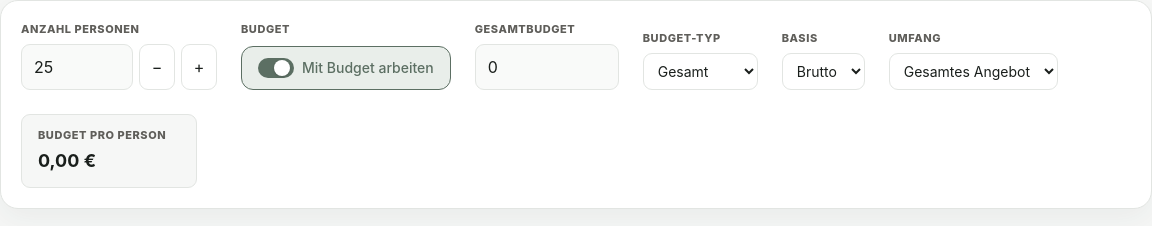
Test: TopControls budget input › normalizes a leading zero while typing 01000 to 1000
Replace the text in the field labelled "Gesamtbudget" with "01000" at x=547, y=66, box [475,44,619,90]
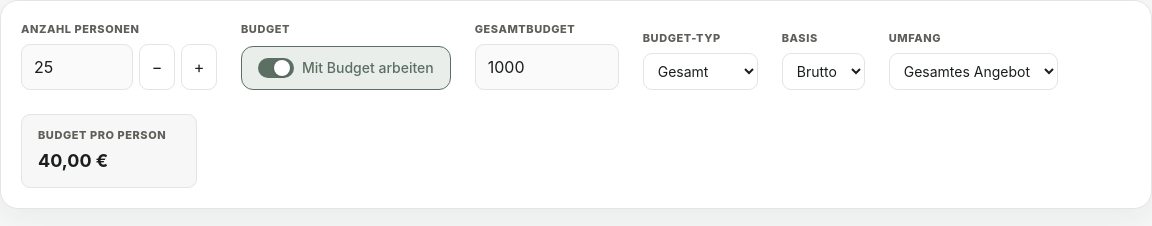
Expected: the field labelled "Gesamtbudget" holds "1000", [475,44,619,90]
Expected: the text "40,00 €" is shown, [38,150,108,171]
